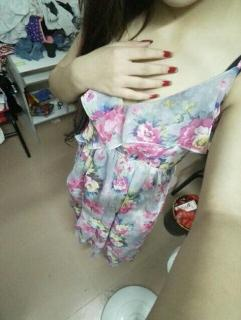sling: (66, 3, 241, 266)
